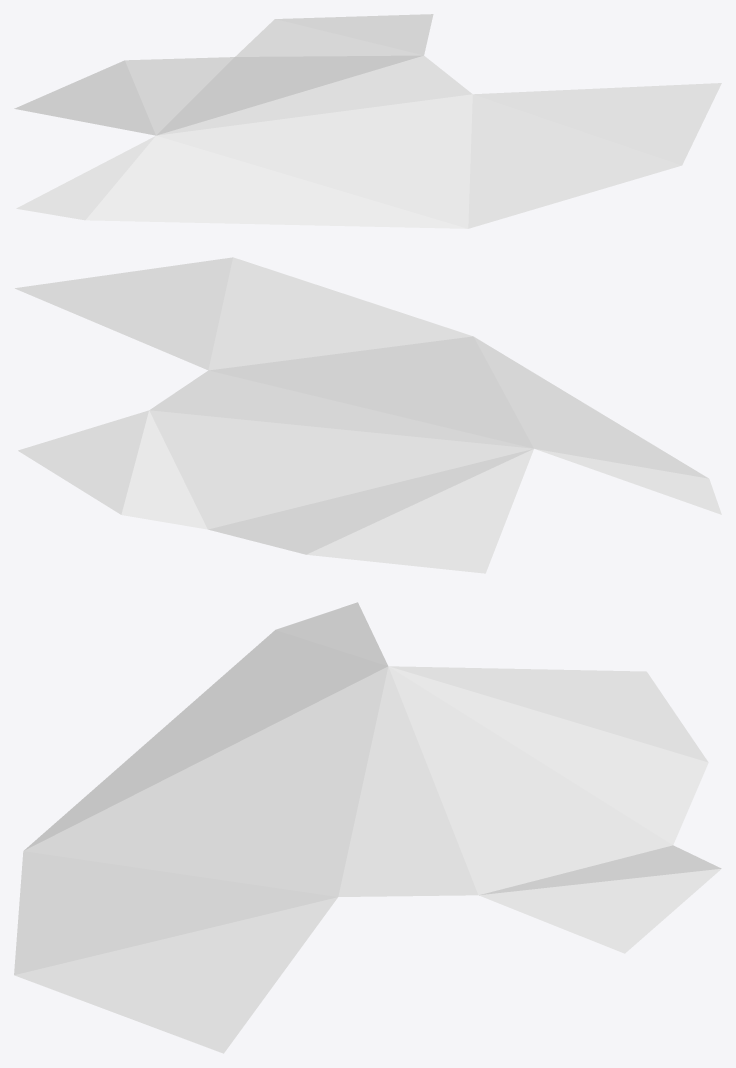
The model's file is IceSheet 1.fbx.
3 views of the same model, one above another, from view 1: azimuth 30°, elevation 25°; view 2: azimuth 150°, elevation 25°; view 3: azimuth 270°, elevation 25° (orthographic). The views are drawn at different scales.
Parts seen in each view (by area): view 1: IceSheet_1; view 2: IceSheet_1; view 3: IceSheet_1.
Part boxes in pixels (box(x1,y1,x2,y2)): IceSheet_1: box(14, 14, 721, 228); IceSheet_1: box(15, 257, 721, 573); IceSheet_1: box(14, 602, 721, 1053).
Bounding box in the file's own units: 282 × 17.42 × 187.
1 material, 1 textured.
